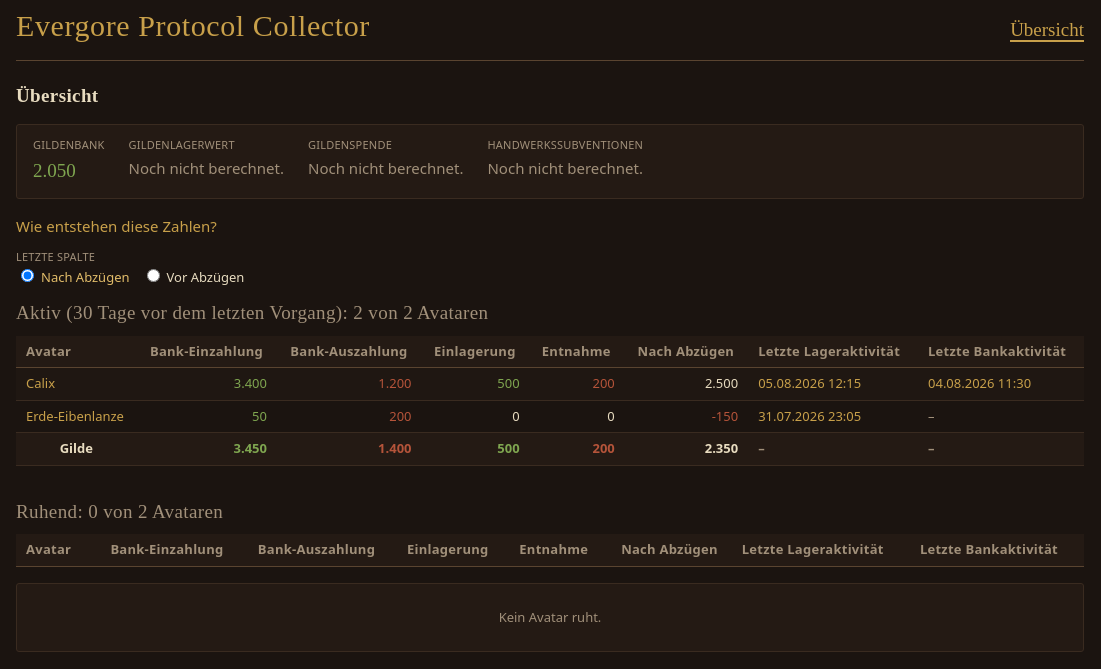
Test case: App › says it on every row that cannot answer, not only on one
The image size is (1101, 669).
Click the radio button labelled "Vor Abzügen" at (153, 275), box [146,269,160,282]
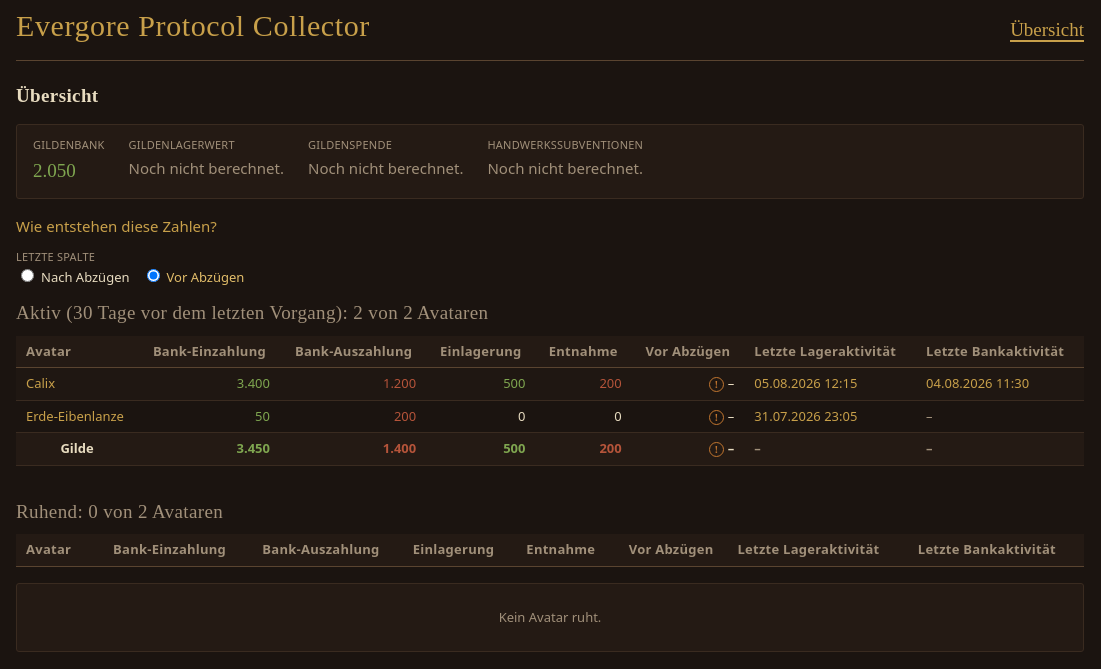
Check: the number of elements with test id "cell-mark" is 2, box [709,374,724,394]; [709,407,724,426]
